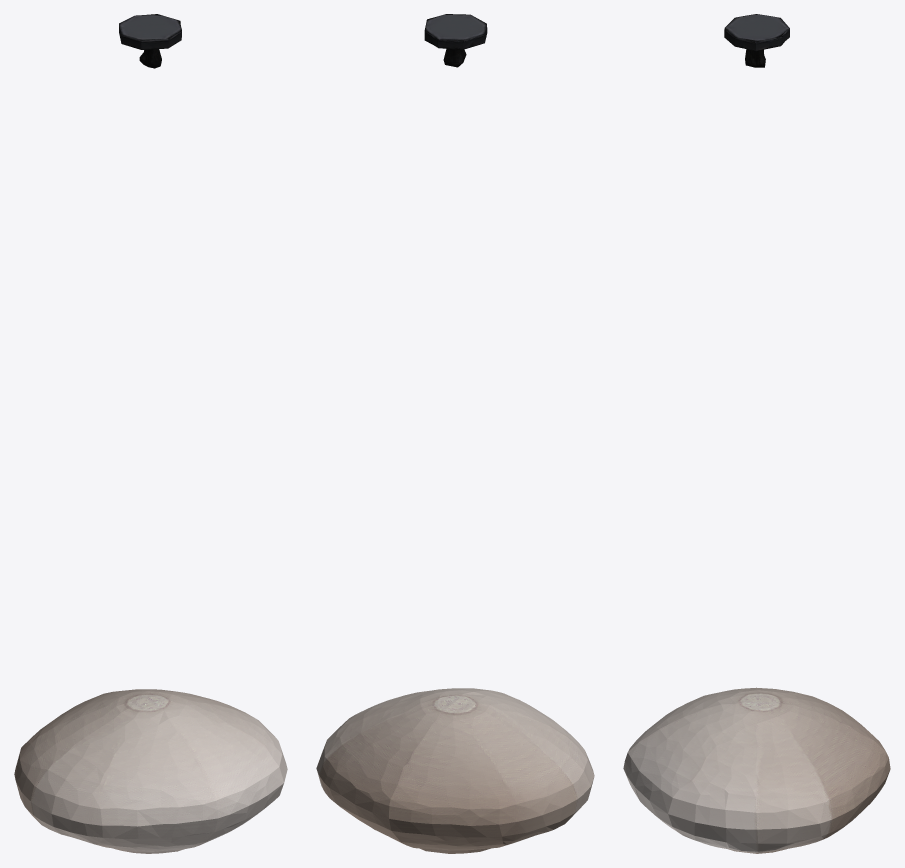
3 views of the same model, side by side, from view 1: azimuth 30°, elevation 25°; view 2: azimuth 150°, elevation 25°; view 3: azimuth 270°, elevation 25° (orthographic).
Visible parts, largest first — view 1: world; view 2: world; view 3: world.
Boxes of the visible parts, bbox=[...] form: world: bbox=[14, 14, 287, 853]; world: bbox=[316, 14, 594, 853]; world: bbox=[623, 14, 890, 853].
Bounding box in the file's own units: 0.309 × 0.999 × 0.296.
1 material, 1 textured.
